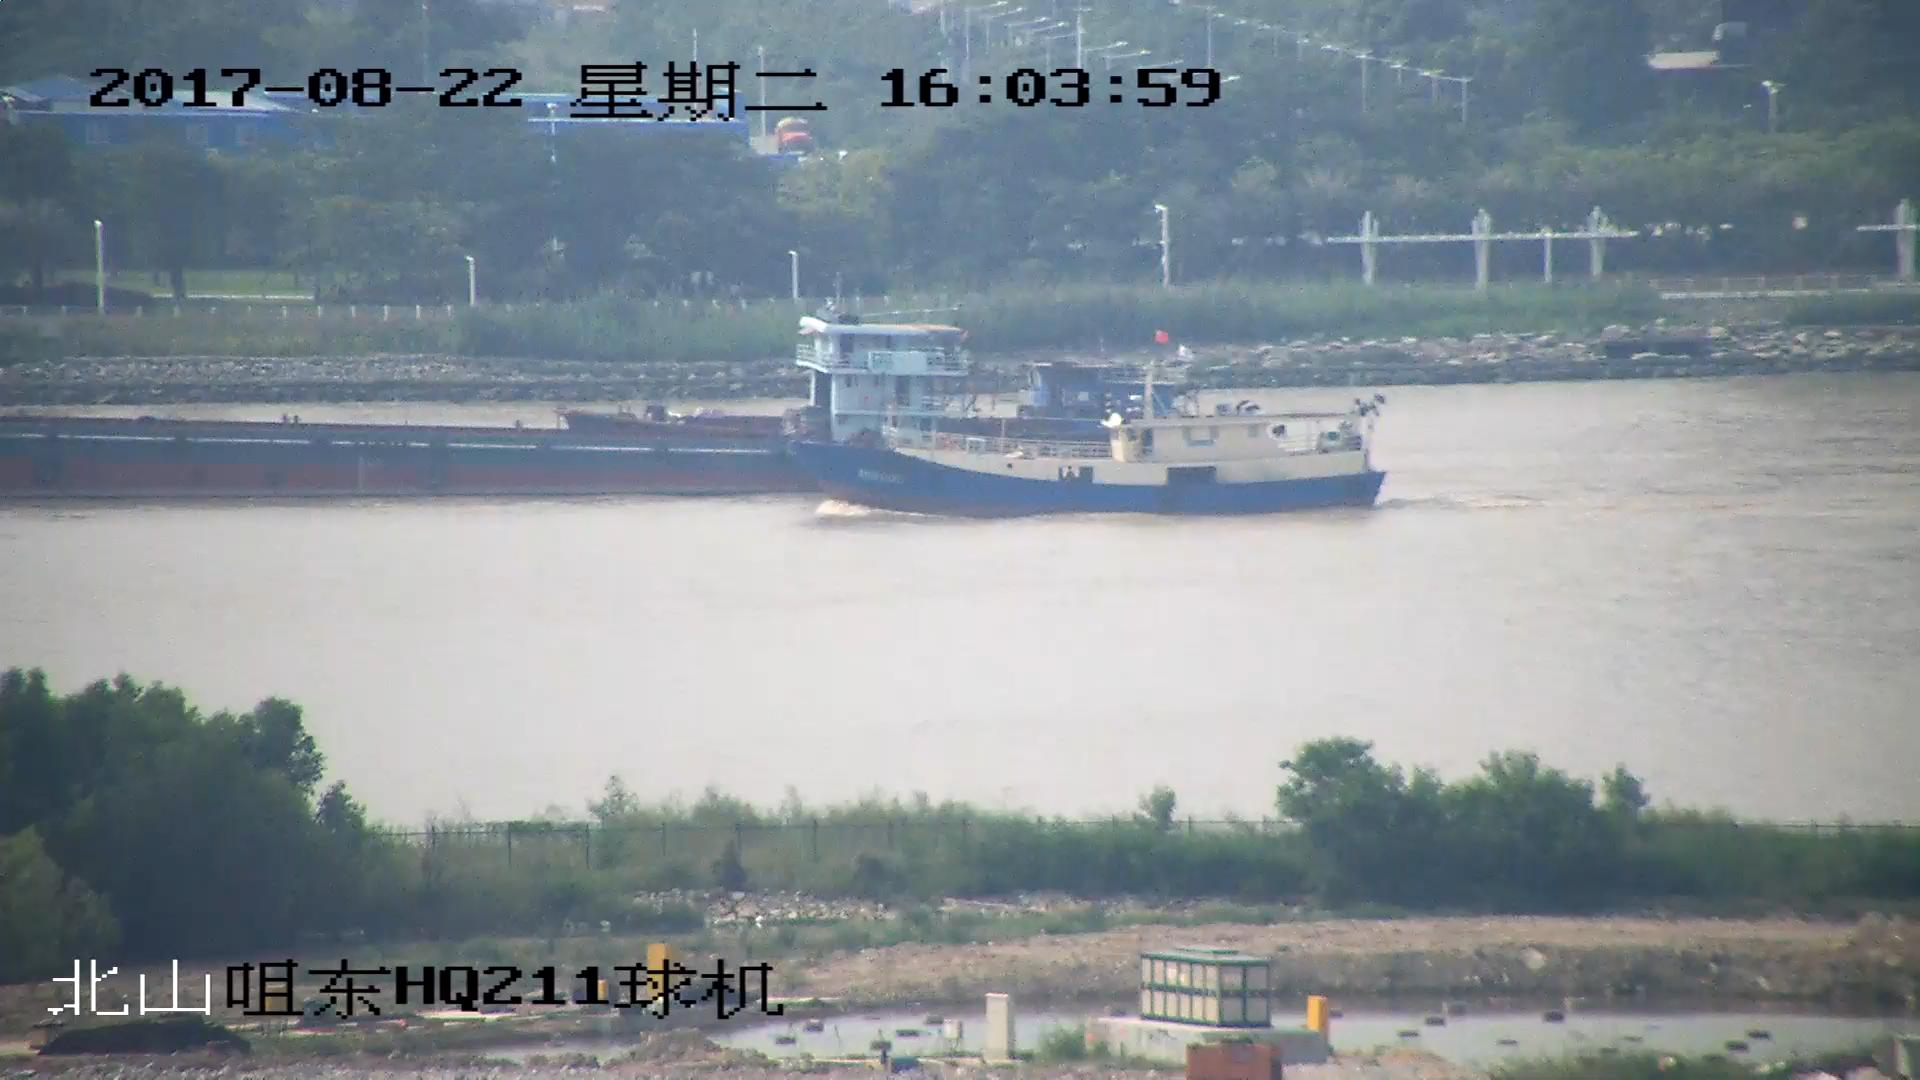bulk cargo carrier: (1, 308, 976, 493)
fishing boat: (797, 331, 1391, 520)
